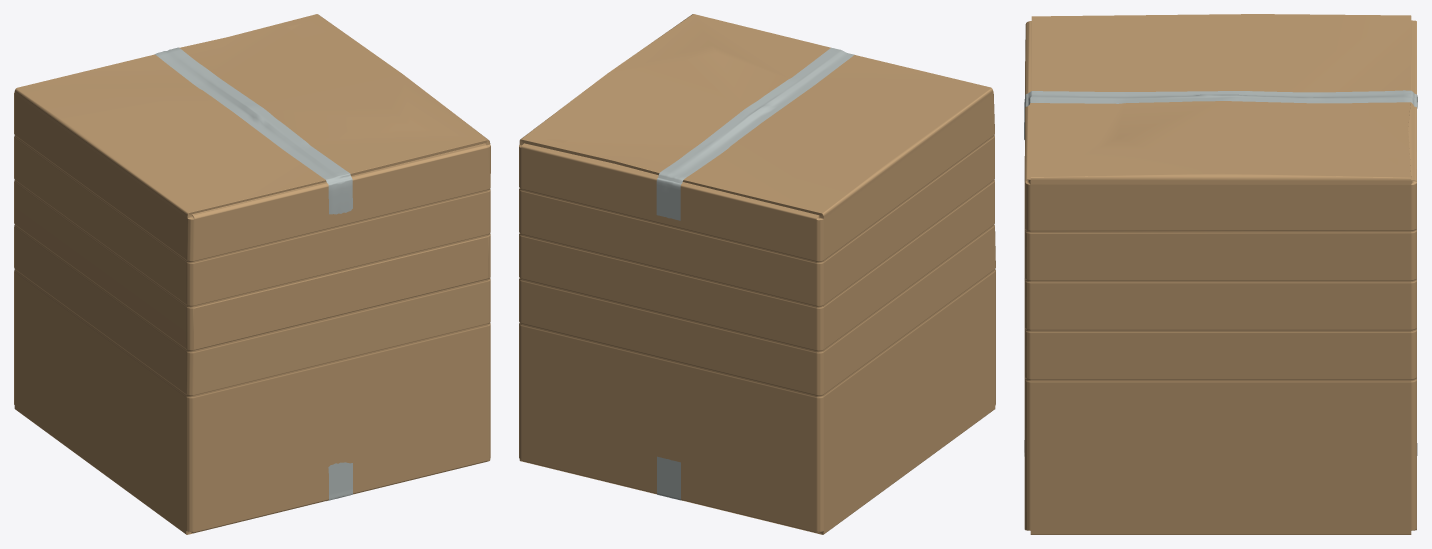
Rendered from box_multiDepth_a05.glb.
The picture shows the model from 3 angles, left to right: view 1: azimuth 30°, elevation 25°; view 2: azimuth 150°, elevation 25°; view 3: azimuth 270°, elevation 25°; orthographic projection. The views are drawn at different scales.
Bounding box in the file's own units: 0.3059 × 0.3143 × 0.3092.
